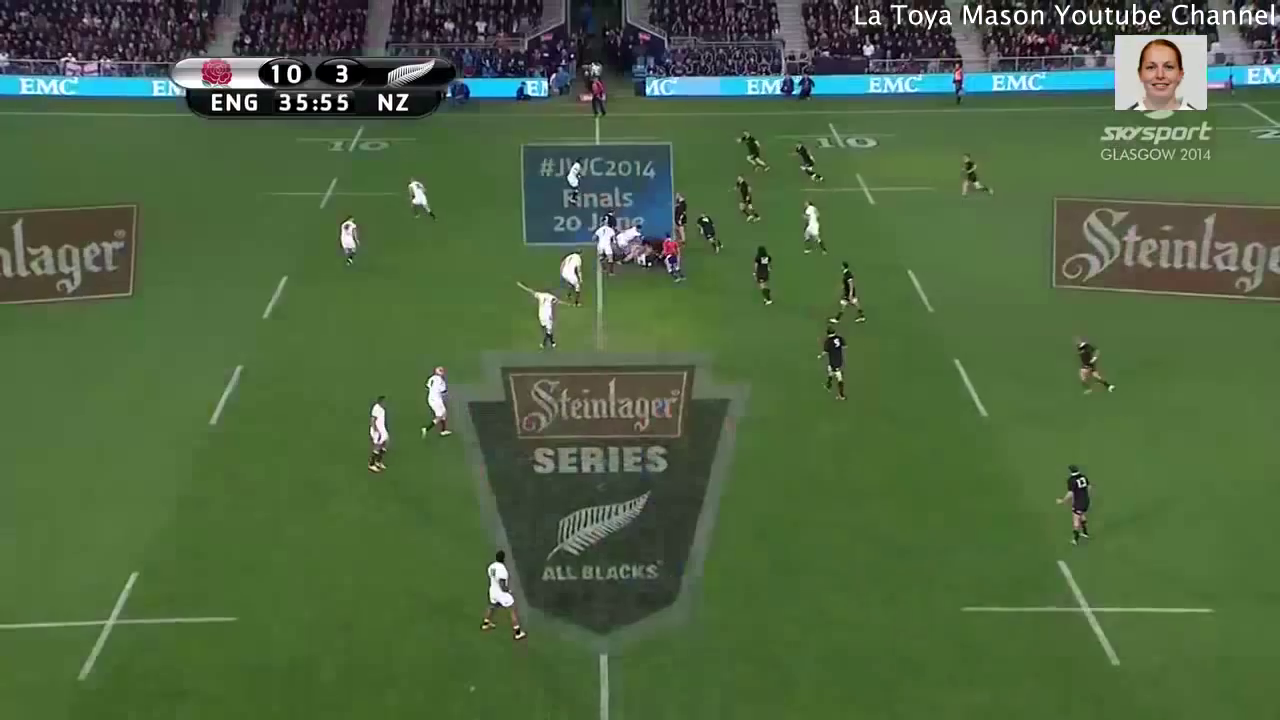10_metre: (954, 555, 1226, 674), (1, 563, 245, 687), (786, 167, 940, 209), (262, 174, 413, 211), (291, 122, 426, 159), (783, 118, 901, 153)
player: (475, 547, 532, 648), (513, 278, 574, 356), (1053, 460, 1098, 551), (357, 389, 398, 480), (1066, 332, 1119, 399), (417, 364, 458, 446), (817, 315, 854, 405), (829, 259, 874, 328), (746, 238, 781, 313), (551, 242, 590, 305), (729, 127, 774, 180), (795, 197, 833, 258), (785, 139, 830, 188), (725, 173, 765, 228), (953, 152, 998, 200), (333, 209, 367, 271), (400, 176, 438, 226), (659, 229, 689, 283), (693, 210, 725, 260), (588, 222, 617, 277), (670, 188, 693, 242), (565, 159, 584, 201), (615, 222, 642, 248), (601, 207, 620, 227)
ruck: (595, 226, 685, 267)
